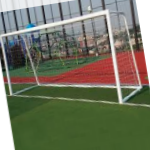goals: (1, 9, 142, 103)
